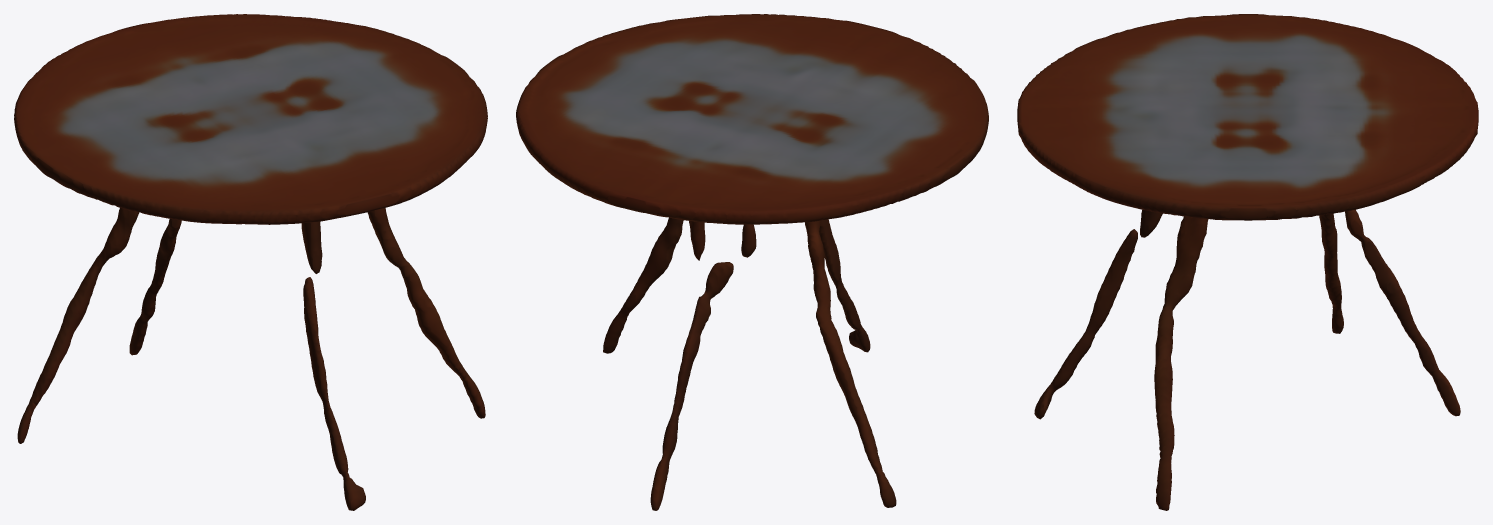
Rendered from A round wooden table with a circular top and four .glb.
3 views of the same model, side by side, from view 1: azimuth 30°, elevation 25°; view 2: azimuth 150°, elevation 25°; view 3: azimuth 270°, elevation 25° (orthographic). The views are drawn at different scales.
Parts seen in each view (by area): view 1: A round wooden table with a circular top and four; view 2: A round wooden table with a circular top and four; view 3: A round wooden table with a circular top and four.
Part boxes in pixels (<box>): A round wooden table with a circular top and four: <box>14,14,487,510</box>; A round wooden table with a circular top and four: <box>516,14,988,510</box>; A round wooden table with a circular top and four: <box>1017,14,1478,510</box>.
Size of the model in its own units: 1.98 by 1.47 by 1.98.
